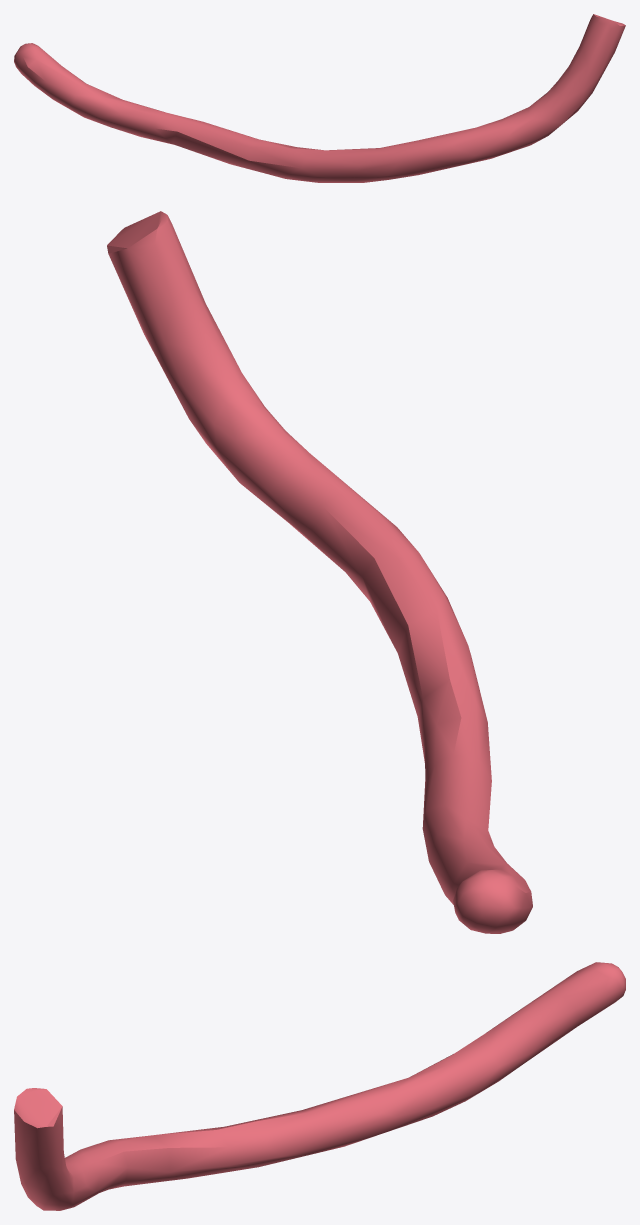
Rendered from fma14776_fj3594.glb.
The picture shows the model from 3 angles, top to bottom: view 1: azimuth 30°, elevation 25°; view 2: azimuth 150°, elevation 25°; view 3: azimuth 270°, elevation 25°; orthographic projection. The views are drawn at different scales.
Parts seen in each view (by area): view 1: FMA14776_FJ3594; view 2: FMA14776_FJ3594; view 3: FMA14776_FJ3594.
Boxes of the visible parts, x1=… form: FMA14776_FJ3594: x1=14, y1=14, x2=625, y2=182; FMA14776_FJ3594: x1=107, y1=211, x2=532, y2=933; FMA14776_FJ3594: x1=14, y1=962, x2=625, y2=1210.
Bounding box in the file's own units: 0.034 × 0.0134 × 0.0319.
